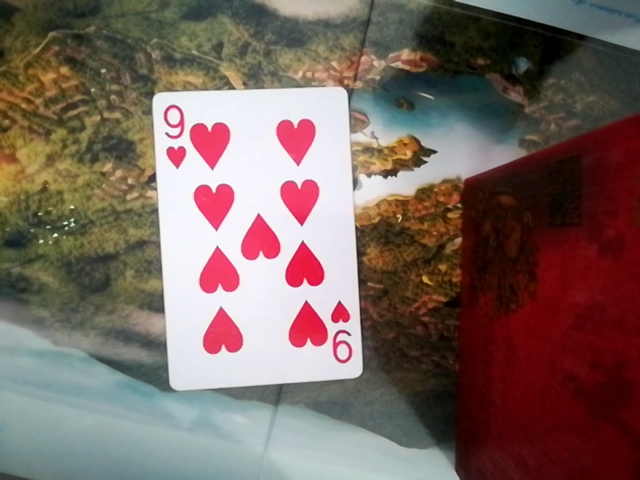hx 9: (151, 76, 367, 394)
